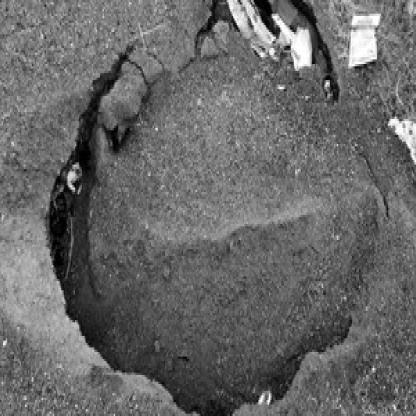pothole: (28, 0, 388, 416)
